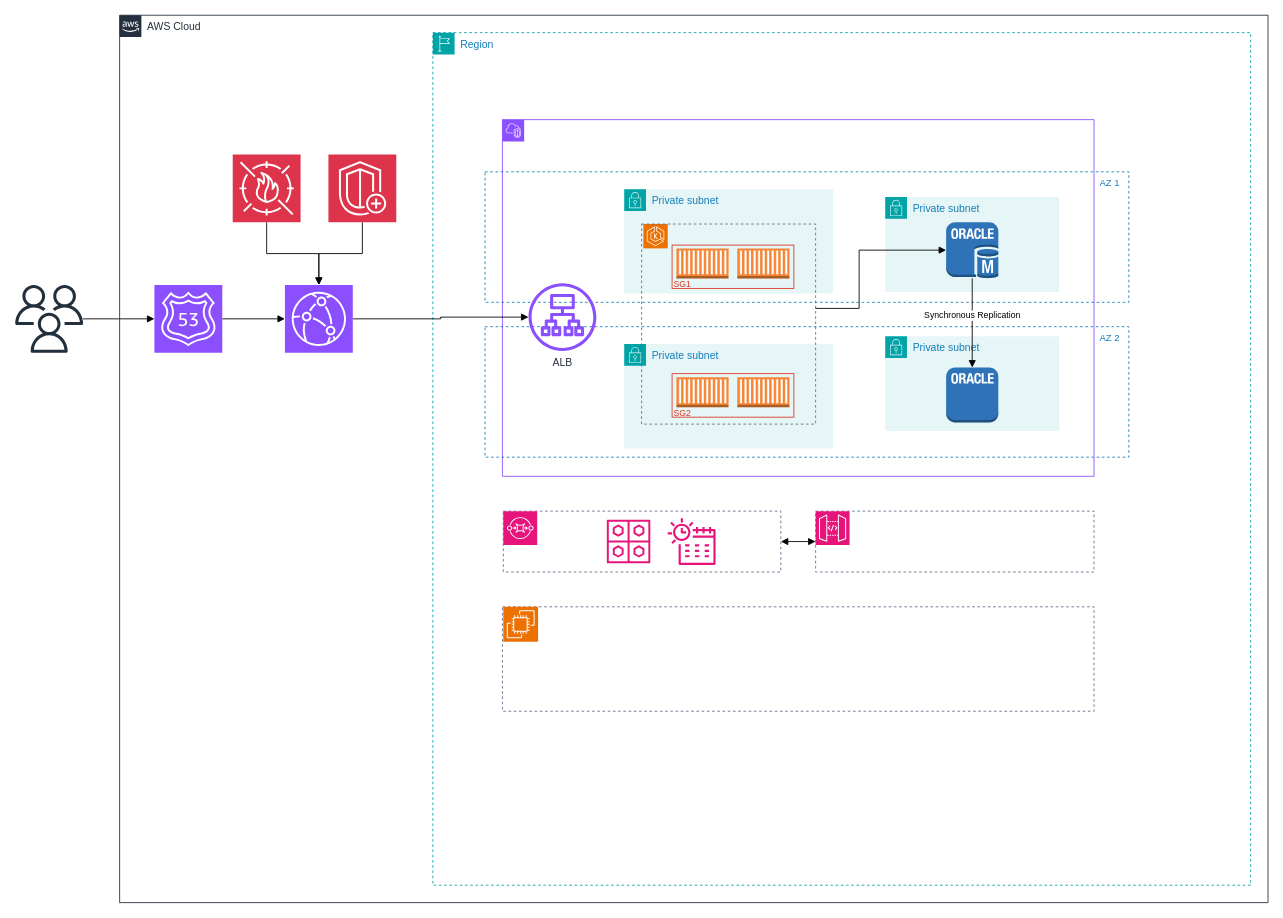
The diagram is 1283 pixels wide and 918 high, and some of its shapes have lost their labels. Each missing label, with the box of its shape:
Ancillary Applications and Services: (502, 606, 1094, 711)
API Governance: (815, 510, 1094, 572)
Cluster: (641, 223, 816, 424)
GEMS: (502, 510, 781, 572)
Users: (15, 284, 83, 352)
VPC: (502, 119, 1094, 476)
